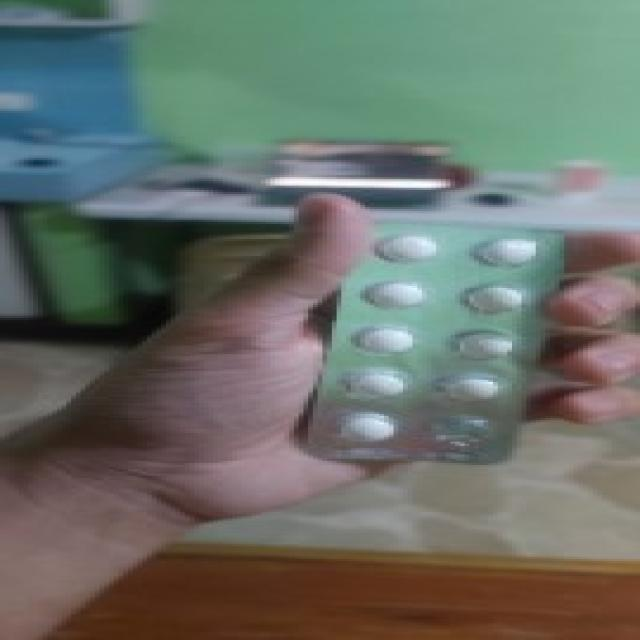Cacat: (296, 224, 526, 466)
Kemasan: (416, 414, 516, 461)
